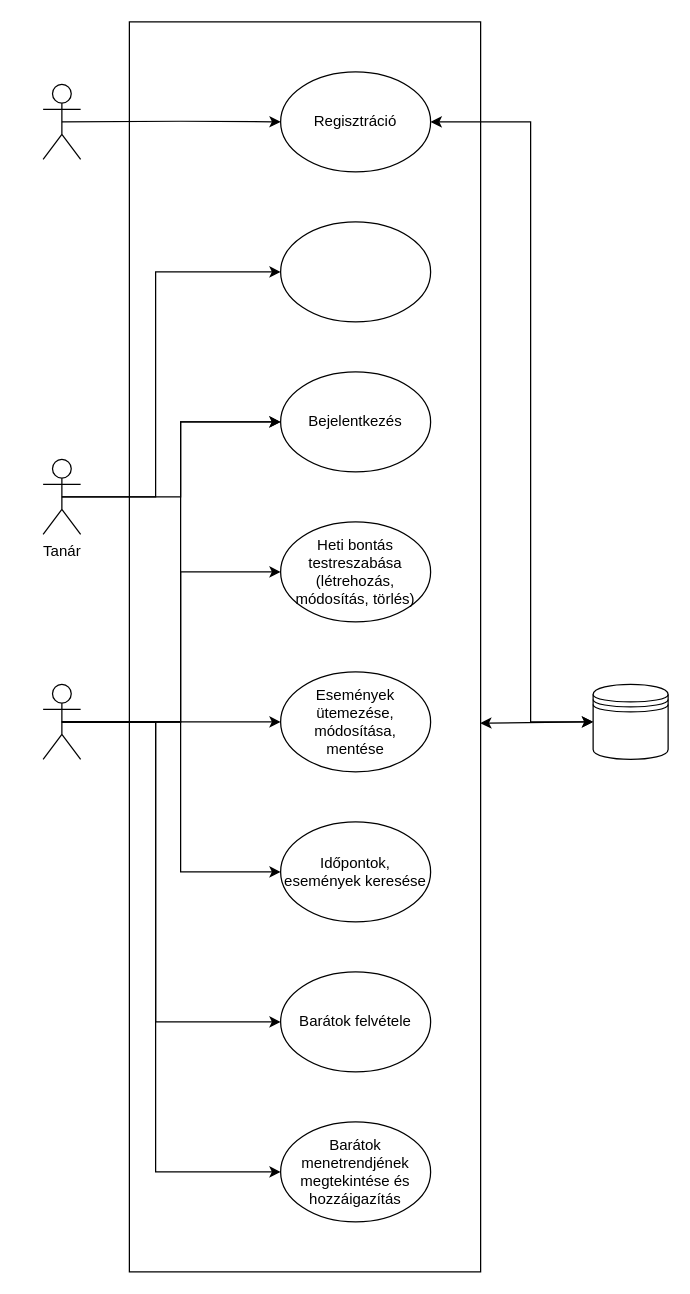
The diagram is 690 pixels wide and 1294 high, and some of its shapes have lost their labels. Each missing label, with the centre of its shape:
"Adatbázis" belongs at [630,721].
"Felhasználó" belongs at [61,721].
"Tanári órák kezelése" belongs at [355,271].
"Vendég" belongs at [61,121].
